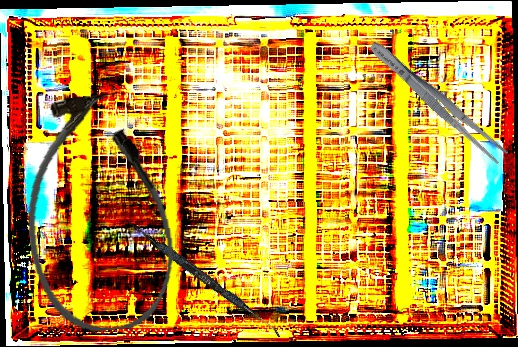Cannula: (15, 88, 182, 338)
Dressing Forceps: (364, 36, 511, 167)
Spatula Surgical: (121, 217, 286, 338)
